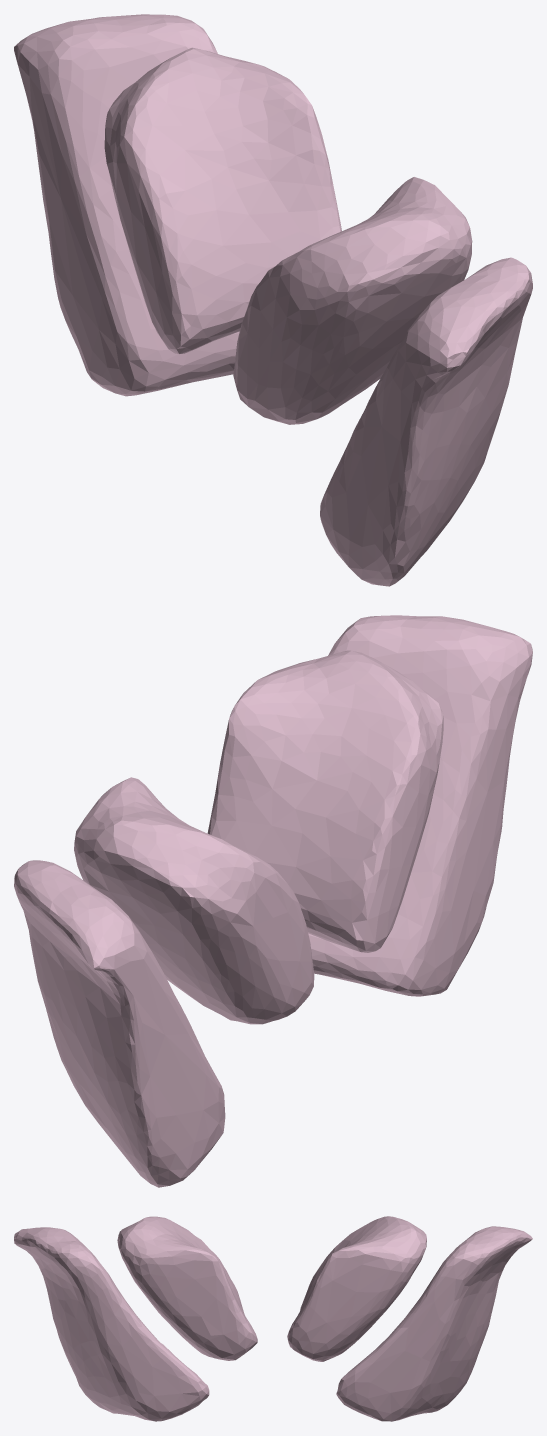
3 renders of one model, top to bottom at view 1: azimuth 30°, elevation 25°; view 2: azimuth 150°, elevation 25°; view 3: azimuth 270°, elevation 25°, orthographic. The views are drawn at different scales.
Parts seen in each view (by area): view 1: 395.obj; view 2: 395.obj; view 3: 395.obj.
Part boxes in pixels (bbox=[...]): 395.obj: bbox=[14, 14, 532, 586]; 395.obj: bbox=[14, 615, 532, 1187]; 395.obj: bbox=[14, 1216, 532, 1421].
Size of the model in its own units: 858 by 1647 by 3861.
